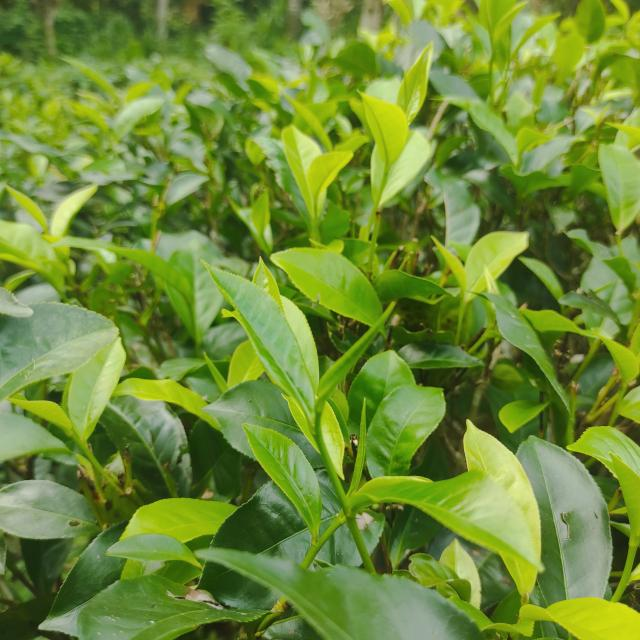unopened_leaf: (310, 294, 403, 411), (343, 395, 375, 505), (200, 348, 234, 393), (397, 59, 416, 113)
